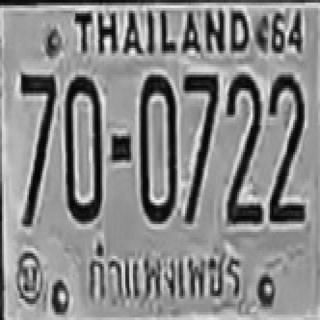N00: (64, 75, 102, 221), (139, 71, 175, 220)
N02: (224, 72, 260, 211), (268, 72, 305, 205), (225, 71, 262, 204)
N07: (181, 72, 218, 216), (19, 71, 54, 217), (20, 71, 55, 191), (181, 72, 218, 181), (181, 72, 218, 160), (19, 72, 54, 160)
P16: (77, 232, 247, 305)
